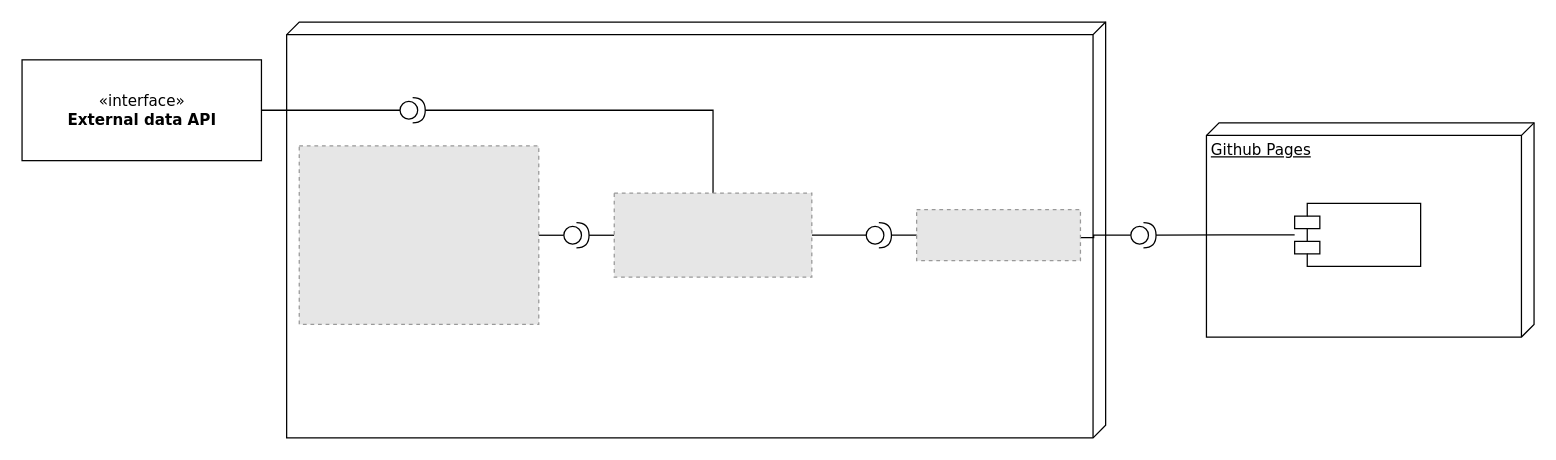
Some shapes in this 1556 by 460 pixel diagram are drawn without their labels. Grey dashed boxes stand in for pictures. Here are the shapes that lost their labels. From the top down, the box of each, then its label:
(285, 21, 1106, 438): Google Cloud Services
(1293, 202, 1421, 266): HTML Page
